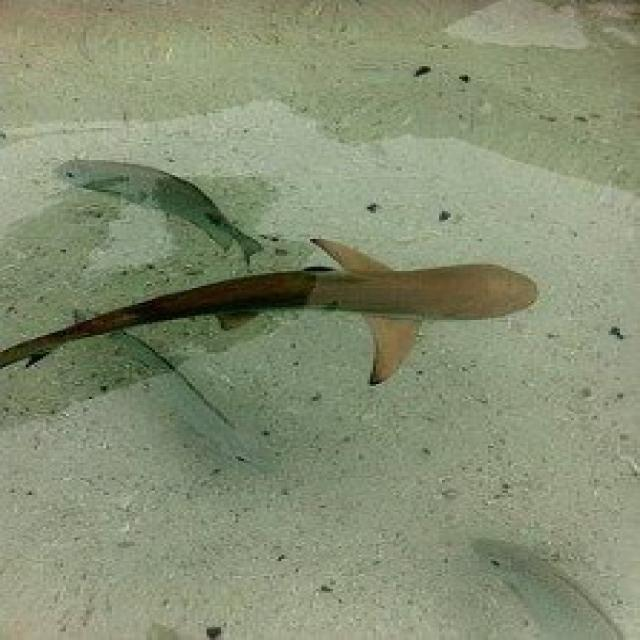Shark: (0, 240, 585, 394), (49, 143, 278, 265)
